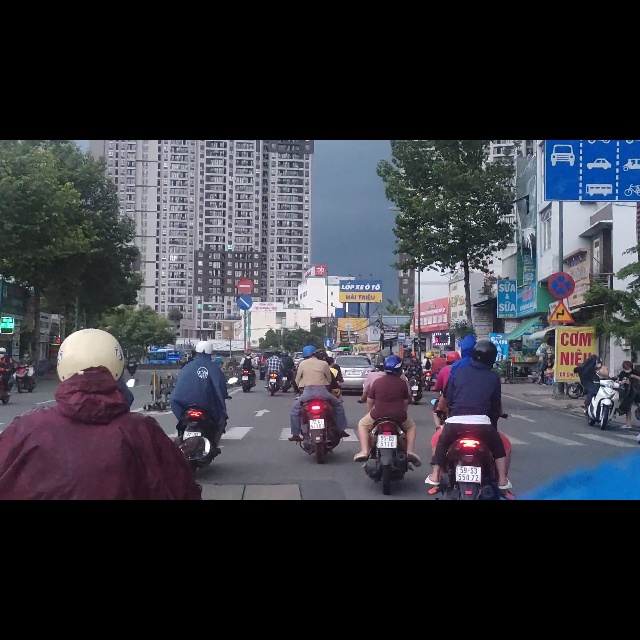bien_cam: (545, 1, 640, 109), (548, 234, 574, 282), (548, 284, 576, 328), (238, 247, 253, 274), (238, 276, 253, 303), (398, 341, 406, 360), (324, 351, 332, 367)
